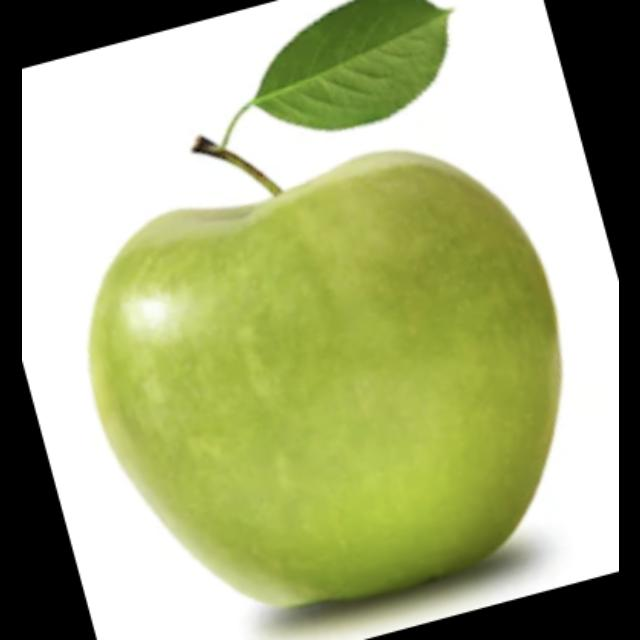Apel Segar: (89, 140, 564, 596)
